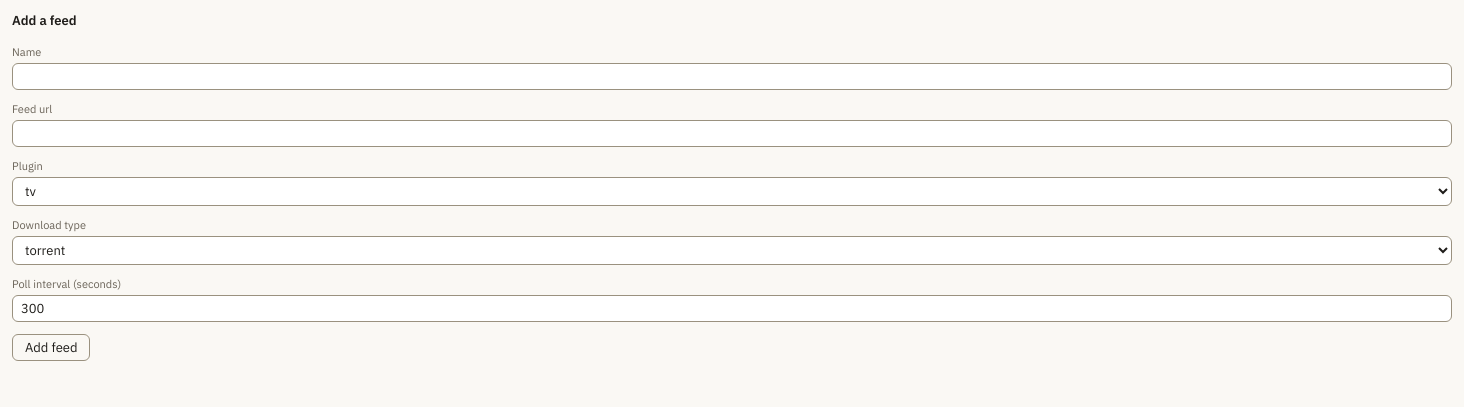
Test: an expired session shows the sign-in sentence, not the version-skew one
The width and height of the screenshot is (1464, 407).
Type "Movies HD" into the field labelled "Name" at (732, 76), box [12,63,1452,90]
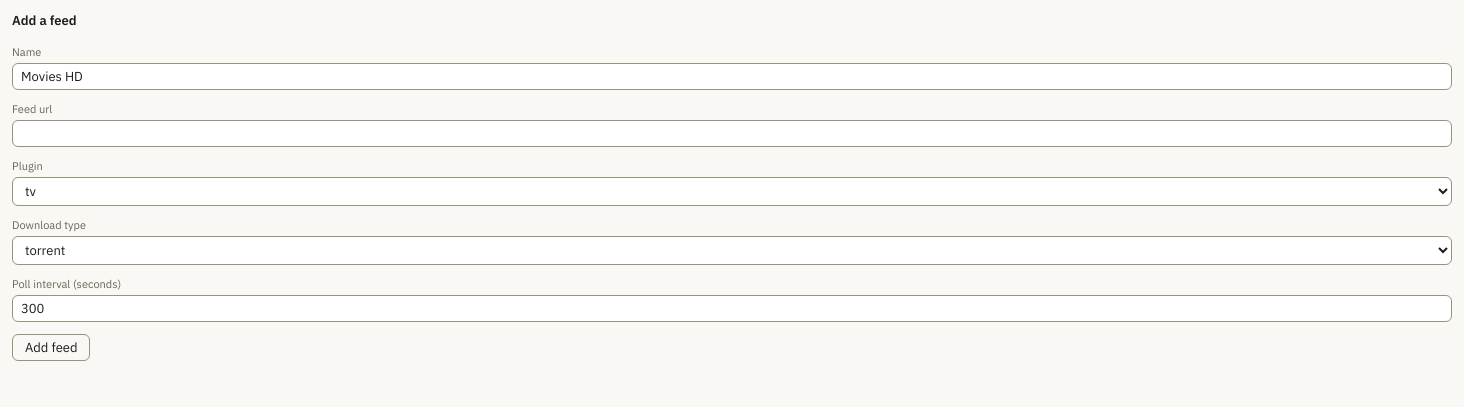
Type "https://tracker.example/rss" into the field labelled "Feed url" at (732, 134), box [12,120,1452,147]
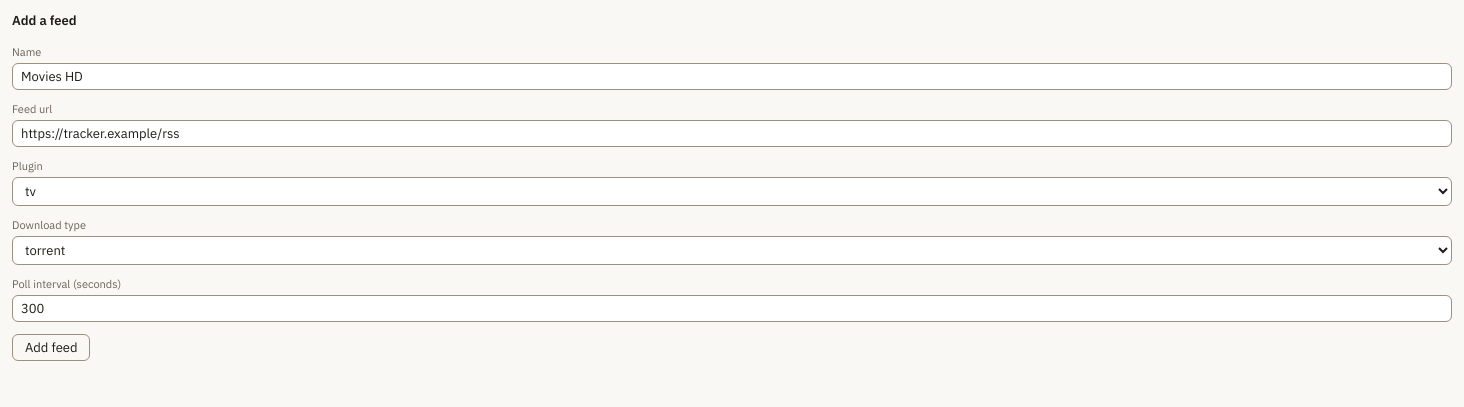
Click the button "Add feed" at (51, 348), box [12,334,90,361]
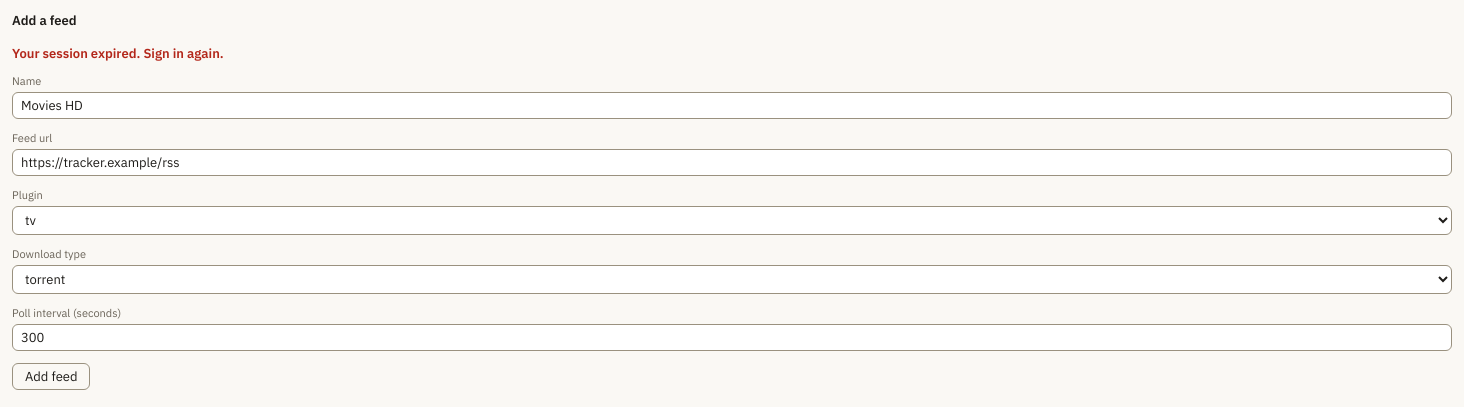
Check: the heading "Your session expired. Sign in again." is shown, box [12,45,224,62]
